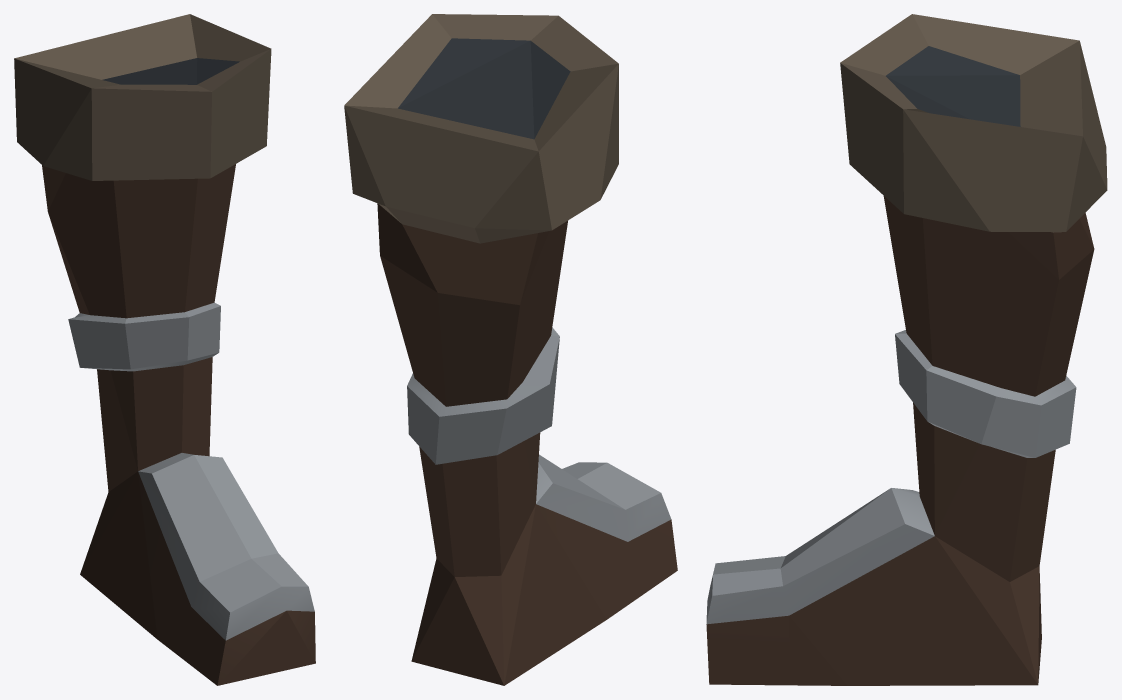
The model's file is Chr_LegRight_Female_18_Static.fbx.
3 views of the same model, side by side, from view 1: azimuth 30°, elevation 25°; view 2: azimuth 150°, elevation 25°; view 3: azimuth 270°, elevation 25° (orthographic). The views are drawn at different scales.
Parts seen in each view (by area): view 1: Chr_LegRight_Female_18_Static; view 2: Chr_LegRight_Female_18_Static; view 3: Chr_LegRight_Female_18_Static.
Part boxes in pixels (box(x1,y1,x2,y2)): Chr_LegRight_Female_18_Static: box(14, 14, 315, 685); Chr_LegRight_Female_18_Static: box(344, 14, 677, 685); Chr_LegRight_Female_18_Static: box(706, 14, 1107, 685).
Bounding box in the file's own units: 0.1606 × 0.4099 × 0.2487.
